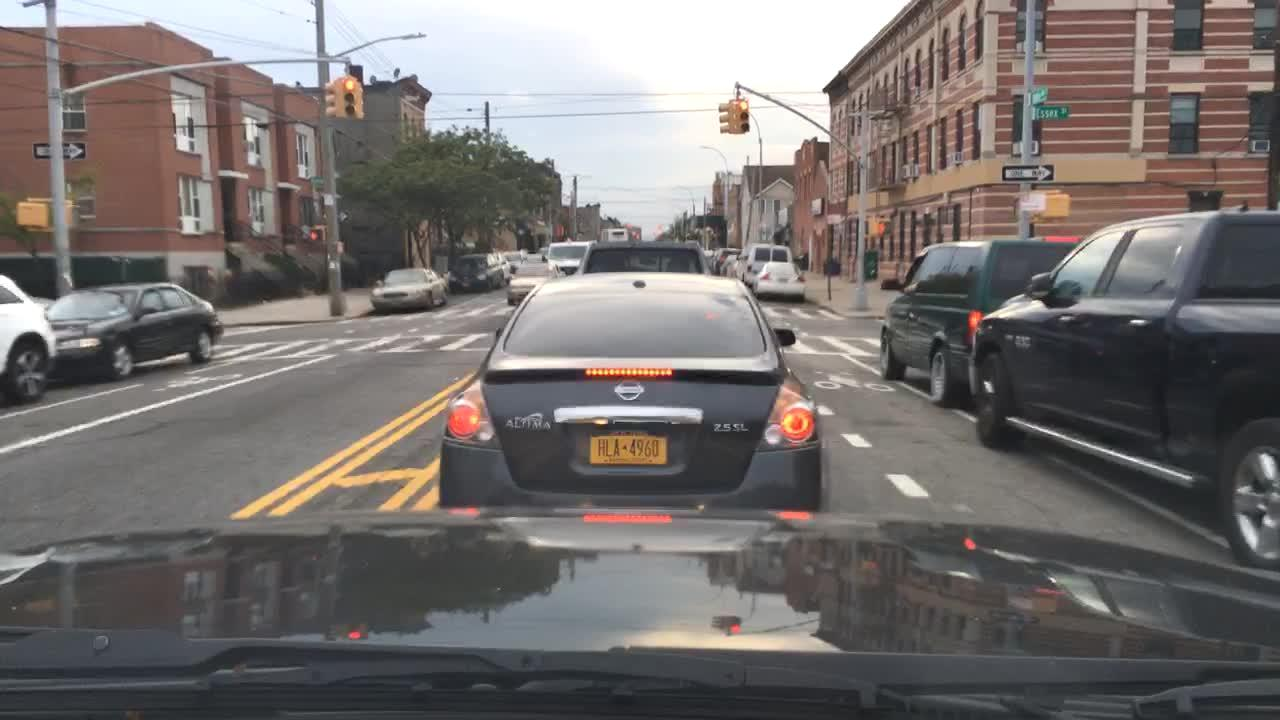Nissan: (606, 369, 657, 408)
